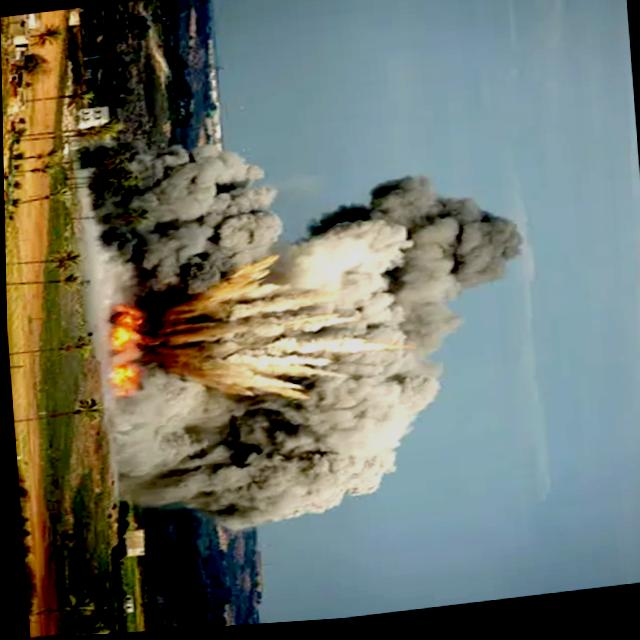no_helmet: (85, 100, 541, 549)
